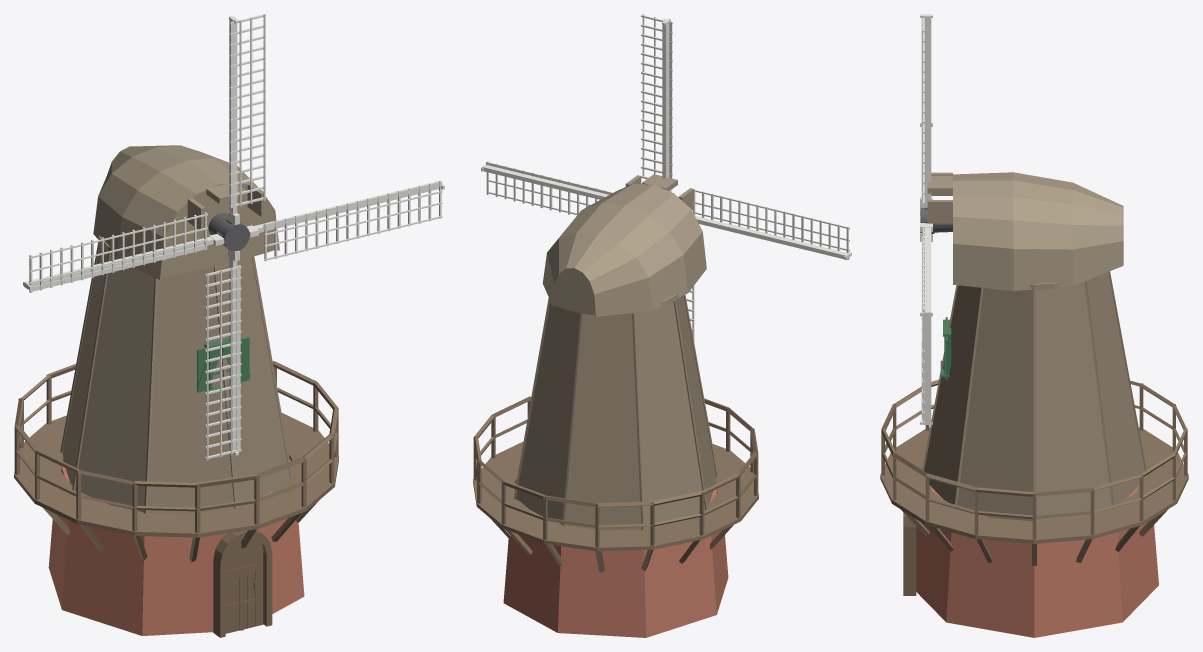
3 renders of one model, left to right at view 1: azimuth 30°, elevation 25°; view 2: azimuth 150°, elevation 25°; view 3: azimuth 270°, elevation 25°, orthographic. The views are drawn at different scales.
Visible parts, largest first — view 1: SmockBody, StageBalcony, BaseStructure, WindmillCap, EntranceDoor, SailBlades_0, SailBlades_1, SailBlades_2, SailBlades_3, ShutteredWindows_0, SailRotorHub; view 2: SmockBody, BaseStructure, WindmillCap, StageBalcony, SailBlades_0, SailBlades_1, SailBlades_3; view 3: SmockBody, BaseStructure, WindmillCap, StageBalcony, SailBlades_0, SailBlades_3, SailBlades_2, EntranceDoor, ShutteredWindows_0.
Part boxes in pixels (x1=…): SmockBody: x1=60, y1=242, x2=292, y2=513; StageBalcony: x1=14, y1=361, x2=338, y2=561; BaseStructure: x1=48, y1=460, x2=304, y2=635; WindmillCap: x1=93, y1=145, x2=279, y2=279; EntranceDoor: x1=213, y1=530, x2=272, y2=637; SailBlades_0: x1=228, y1=14, x2=265, y2=224; SailBlades_1: x1=23, y1=212, x2=224, y2=292; SailBlades_2: x1=205, y1=249, x2=241, y2=460; SailBlades_3: x1=246, y1=180, x2=444, y2=261; ShutteredWindows_0: x1=197, y1=337, x2=250, y2=392; SailRotorHub: x1=208, y1=213, x2=249, y2=251; SmockBody: x1=513, y1=294, x2=718, y2=530; BaseStructure: x1=503, y1=483, x2=728, y2=637; WindmillCap: x1=542, y1=174, x2=706, y2=316; StageBalcony: x1=473, y1=396, x2=758, y2=572; SailBlades_0: x1=641, y1=14, x2=672, y2=191; SailBlades_1: x1=693, y1=189, x2=851, y2=259; SailBlades_3: x1=481, y1=161, x2=613, y2=215; SmockBody: x1=921, y1=271, x2=1147, y2=521; BaseStructure: x1=916, y1=485, x2=1158, y2=637; WindmillCap: x1=927, y1=172, x2=1123, y2=290; StageBalcony: x1=880, y1=379, x2=1188, y2=565; SailBlades_0: x1=920, y1=14, x2=932, y2=207; SailBlades_3: x1=920, y1=223, x2=932, y2=343; SailBlades_2: x1=920, y1=232, x2=932, y2=424; EntranceDoor: x1=903, y1=513, x2=916, y2=595; ShutteredWindows_0: x1=940, y1=317, x2=951, y2=380.
Size of the model in its own units: 7.6 by 10.6 by 5.2.
